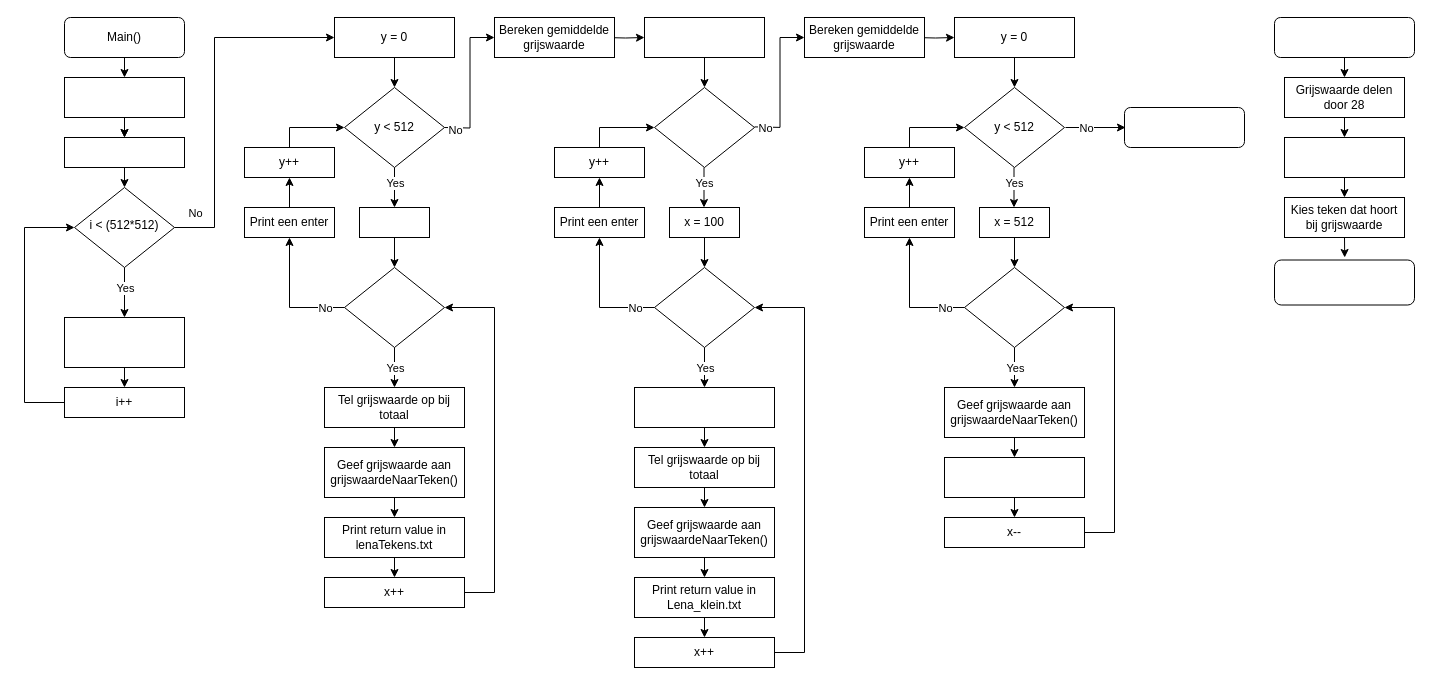
The diagram is 1432 pixels wide and 685 high, and some of its shapes have lost their labels. The shapes that lost their labels are listed below. From the top down, each one's centre as x and y in pixels, then its label:
At point 704,37: "y = 100".
At point 1344,37: "grijswaardeNaarTeken()".
At point 124,97: "Declareer variabelen".
At point 704,127: "y < 400".
At point 1184,127: "return 0;".
At point 124,152: "i = 0".
At point 1344,157: "Declareer array met tekens".
At point 394,222: "x = 0".
At point 1344,282: "return teken;".
At point 394,307: "x < 512".
At point 704,307: "x < 400".
At point 1014,307: "x > 0".
At point 124,342: "Lees lijn uit lena.txt en zet grijswaarde in array".
At point 704,407: "Zet grijswaarde in subset array".
At point 1014,477: "Print return value in lenaGespiegeld.txt".
